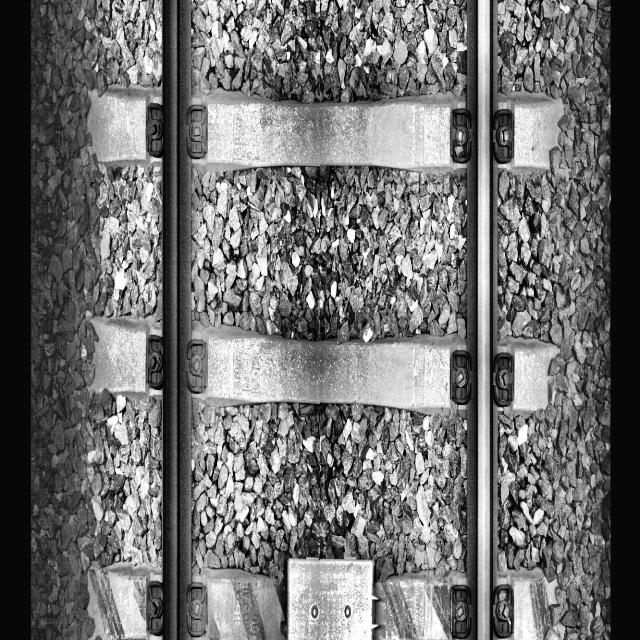Clips: (184, 338, 209, 394), (450, 348, 474, 406), (185, 104, 208, 159), (185, 582, 208, 637), (450, 108, 472, 164), (492, 108, 514, 164), (450, 584, 472, 639), (493, 351, 514, 407), (493, 584, 514, 640), (146, 102, 164, 158), (148, 333, 164, 393), (146, 582, 163, 638)
Sleepers: (89, 316, 566, 411), (89, 86, 568, 171), (83, 560, 559, 640)
